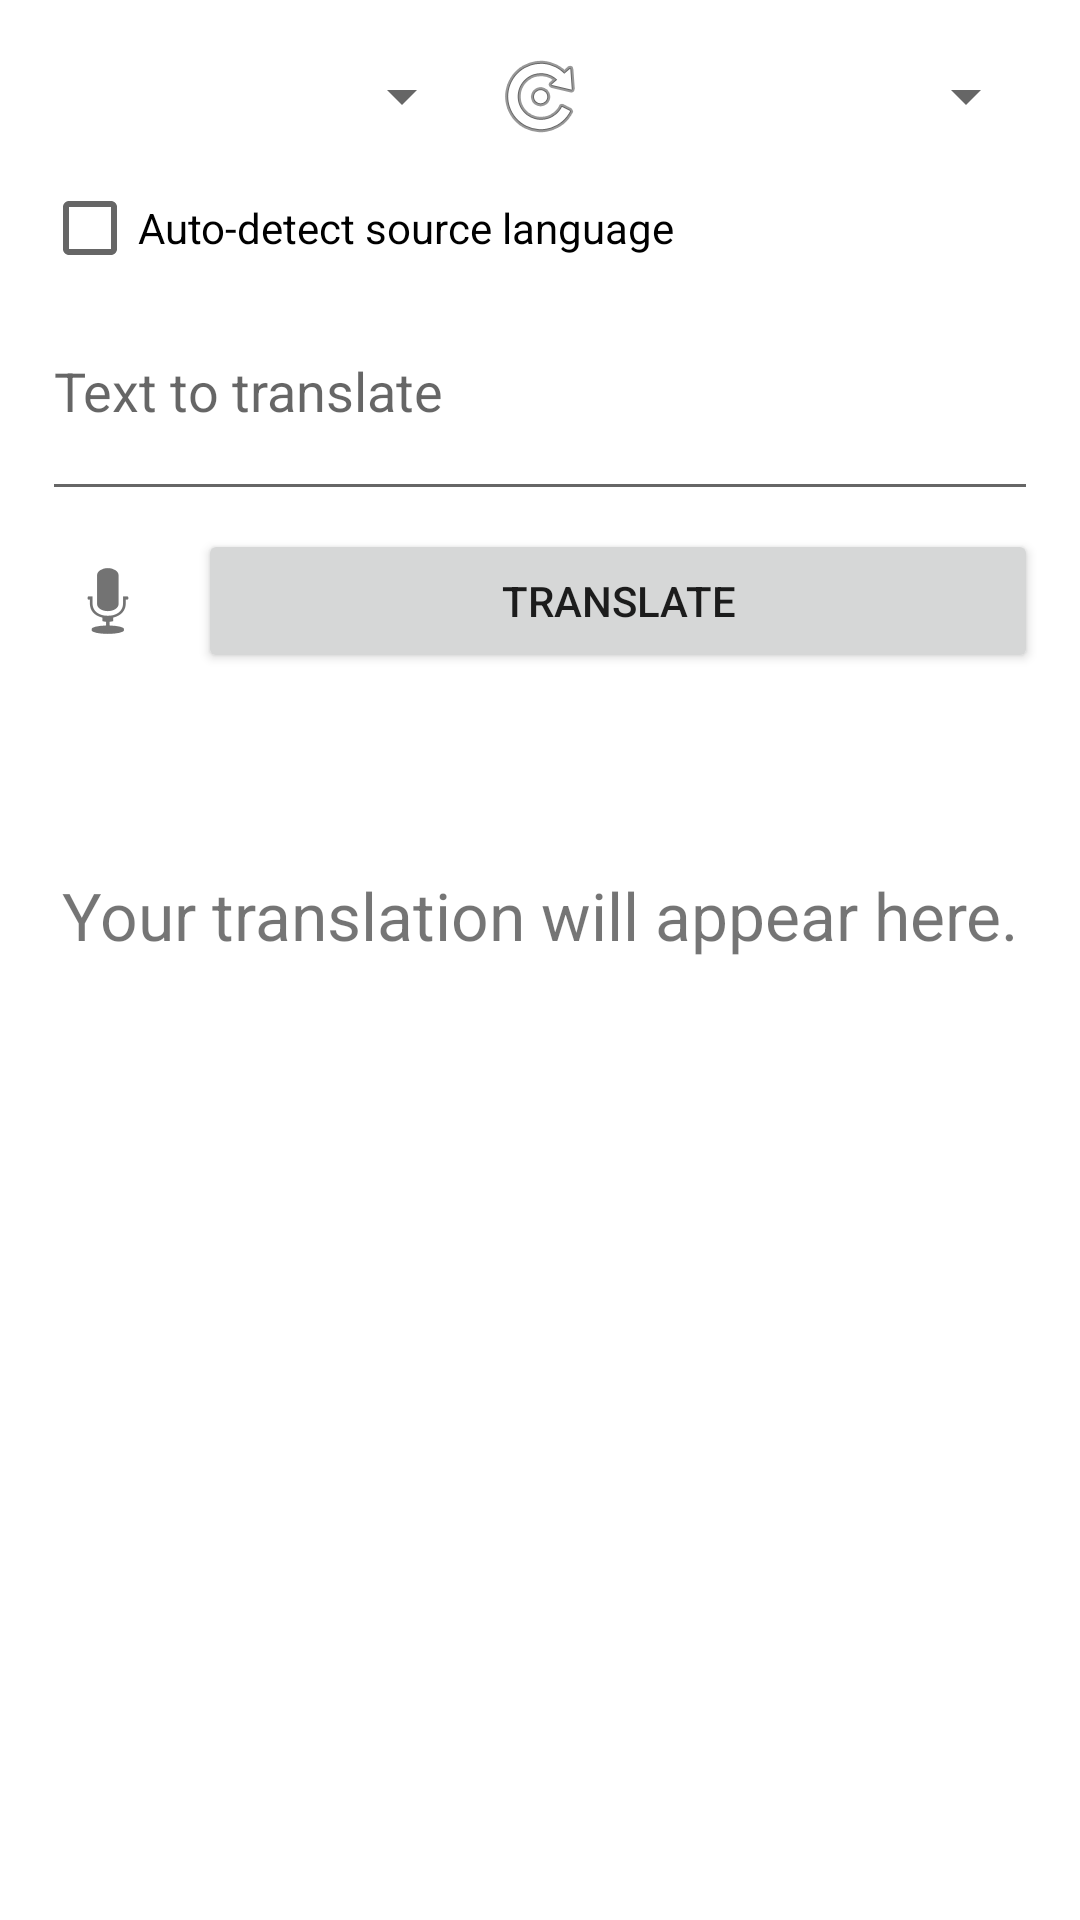

Named icons in this screenshot (1080 × 1920) and their centers, (x,y):
Voice input: (108,601)
